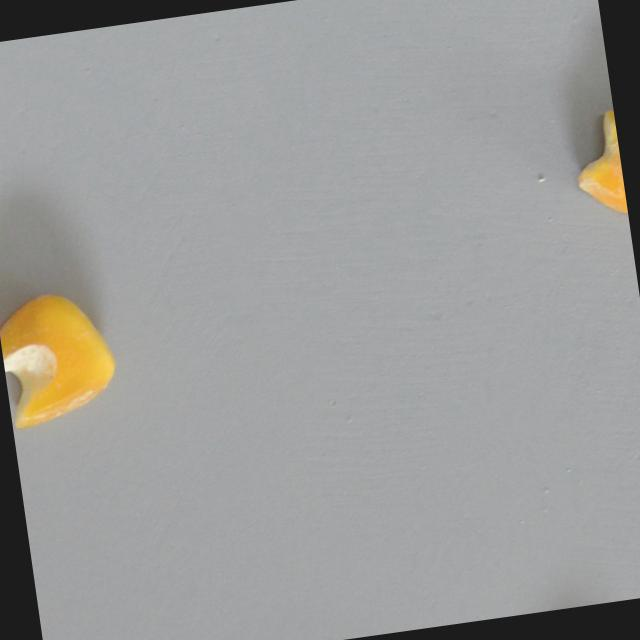pelicula: (0, 285, 120, 431), (569, 109, 628, 219)
